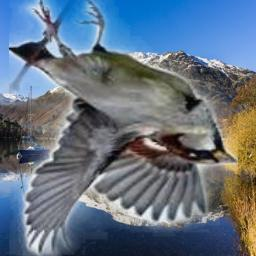Sparrow: (9, 0, 238, 256)
